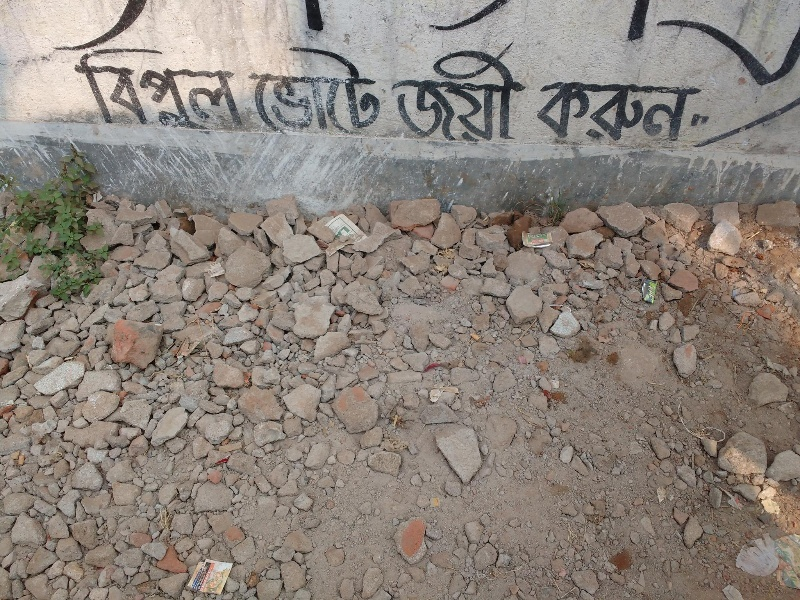text: (401, 40, 416, 149), (417, 40, 432, 149), (433, 40, 448, 149), (449, 40, 464, 149), (465, 40, 480, 149), (481, 40, 496, 149), (497, 40, 512, 149), (513, 40, 528, 149), (387, 40, 400, 149), (257, 43, 272, 137), (273, 43, 288, 137), (289, 43, 304, 137), (305, 43, 320, 137), (321, 43, 336, 137), (337, 43, 352, 137), (353, 43, 368, 137), (369, 43, 384, 137), (81, 48, 96, 140), (97, 48, 112, 140), (113, 48, 128, 140), (129, 48, 144, 140), (145, 48, 160, 140), (161, 48, 176, 140), (177, 48, 192, 140), (193, 48, 208, 140), (209, 48, 224, 140), (225, 48, 240, 140), (67, 48, 80, 140), (244, 43, 256, 137), (689, 80, 705, 146), (241, 48, 252, 140), (545, 80, 560, 146), (561, 80, 576, 146), (577, 80, 592, 146), (593, 80, 608, 146), (609, 80, 624, 146), (625, 80, 640, 146), (641, 80, 656, 146), (657, 80, 672, 146), (673, 80, 688, 146), (536, 80, 544, 146), (529, 40, 530, 149), (385, 43, 386, 137)
